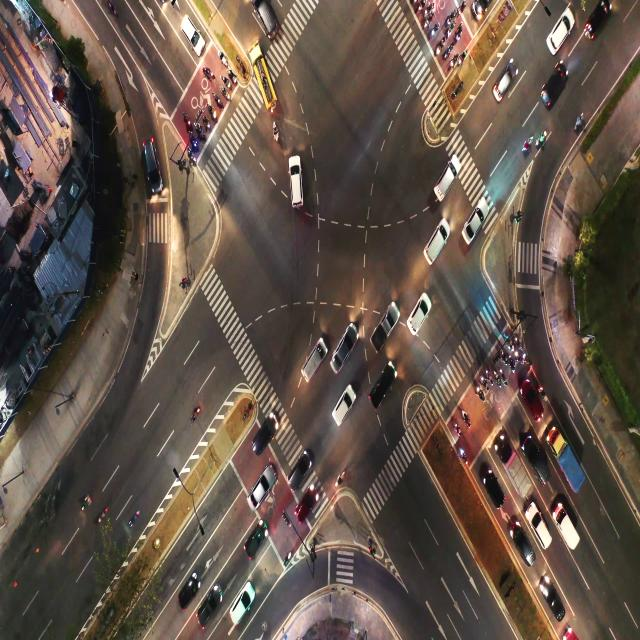bus: (264, 80, 270, 102)
car: (142, 149, 154, 181), (201, 604, 216, 624), (302, 359, 314, 382), (441, 172, 456, 190), (184, 20, 194, 46), (180, 588, 192, 608), (334, 406, 346, 425), (335, 345, 344, 368), (290, 177, 298, 202), (553, 24, 565, 40), (376, 382, 387, 399), (465, 226, 477, 241), (546, 89, 558, 104), (522, 537, 532, 555), (497, 80, 507, 97), (546, 596, 558, 610), (302, 498, 311, 516), (232, 604, 242, 620), (251, 490, 259, 510), (259, 430, 267, 450), (291, 468, 301, 483), (489, 482, 497, 499), (261, 12, 270, 27), (430, 242, 439, 253), (538, 526, 544, 542), (531, 400, 537, 416), (413, 316, 420, 327), (538, 461, 543, 475), (251, 541, 255, 554)
motorcycle: (458, 445, 468, 470), (80, 491, 92, 511), (283, 550, 294, 567), (97, 509, 107, 522), (274, 122, 280, 140), (525, 132, 531, 149), (462, 411, 469, 424), (220, 54, 227, 66), (424, 6, 433, 15), (339, 468, 344, 483), (454, 31, 462, 40), (433, 48, 441, 57), (132, 514, 137, 528), (458, 7, 464, 18), (193, 408, 198, 421), (576, 112, 581, 124), (447, 15, 453, 25), (493, 369, 498, 380), (539, 136, 545, 144), (207, 70, 212, 79), (223, 90, 228, 99), (461, 52, 466, 61), (477, 391, 483, 398), (205, 120, 210, 128), (523, 352, 527, 362), (425, 20, 430, 28), (416, 5, 421, 13), (501, 372, 507, 378), (211, 109, 216, 116), (446, 50, 451, 57), (229, 70, 233, 78), (541, 388, 545, 396), (508, 359, 512, 367), (448, 28, 452, 36), (189, 153, 194, 159), (482, 380, 487, 386), (185, 118, 189, 125), (502, 352, 506, 359), (515, 351, 519, 358), (217, 97, 220, 106), (224, 77, 227, 85), (509, 342, 512, 349), (514, 338, 518, 343), (432, 30, 436, 35), (193, 140, 196, 146), (487, 374, 491, 378), (457, 427, 460, 432), (453, 59, 455, 66), (199, 130, 202, 134)
truck: (372, 321, 388, 355), (563, 448, 578, 481), (561, 513, 575, 541), (508, 465, 522, 487)
